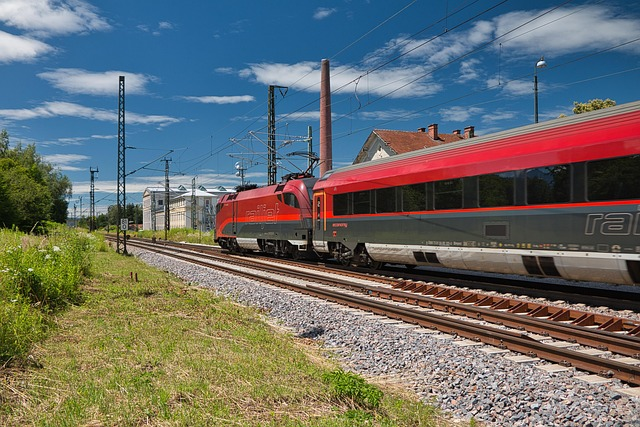train1: (211, 96, 637, 301)
